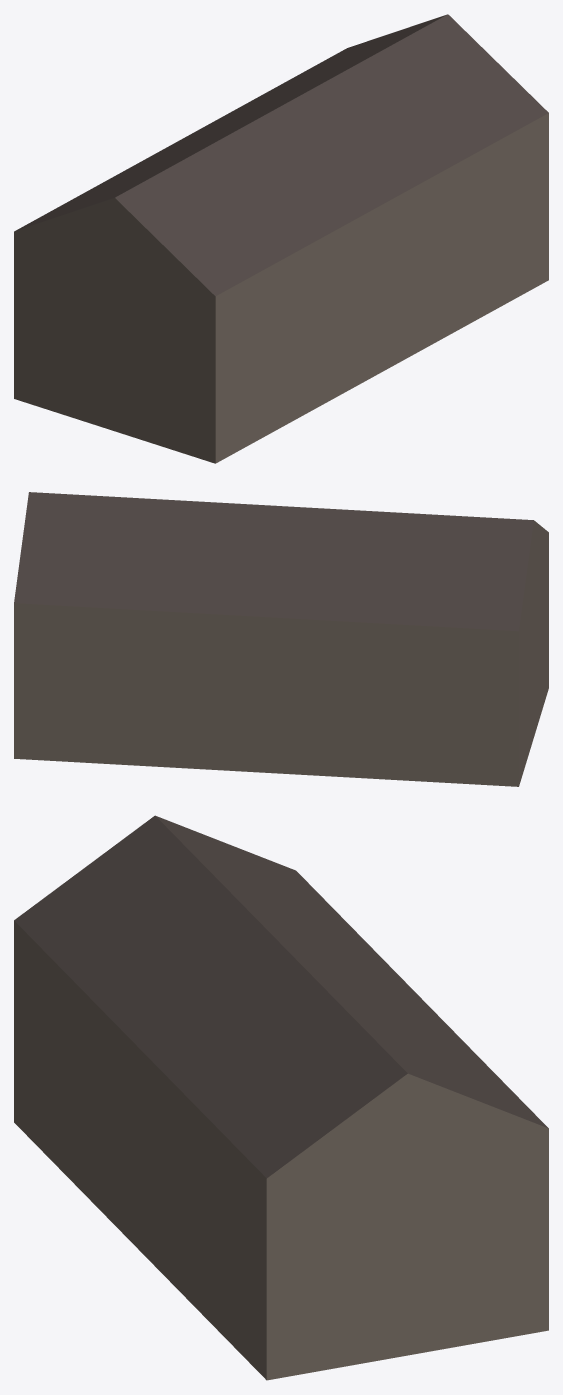
3 renders of one model, top to bottom at view 1: azimuth 30°, elevation 25°; view 2: azimuth 150°, elevation 25°; view 3: azimuth 270°, elevation 25°, orthographic. The views are drawn at different scales.
Visible parts, largest first — view 1: HP-w369342547; view 2: HP-w369342547; view 3: HP-w369342547.
Boxes of the visible parts, x1,y1,x2,y2 form: HP-w369342547: (14,14,548,463); HP-w369342547: (14,492,548,786); HP-w369342547: (14,815,548,1380).
Size of the model in its own units: 29.43 by 12.57 by 21.61.
